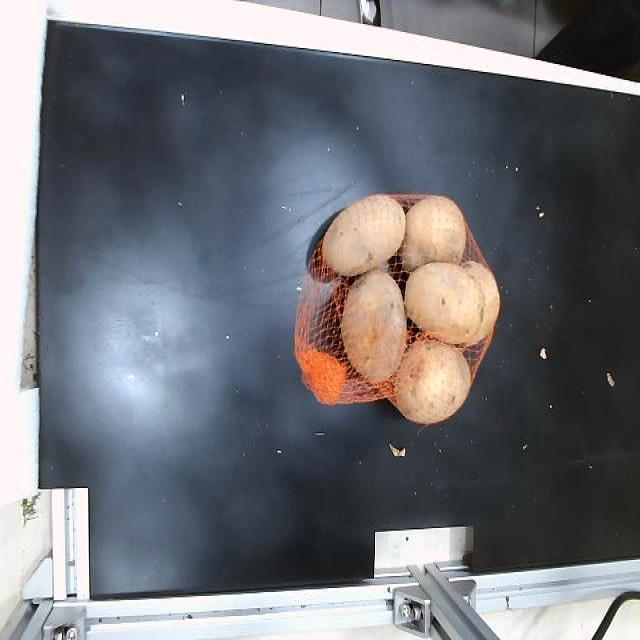potato: (341, 270, 406, 382), (322, 195, 405, 276), (404, 262, 484, 342), (395, 340, 471, 424), (402, 195, 466, 270), (461, 260, 500, 344)
